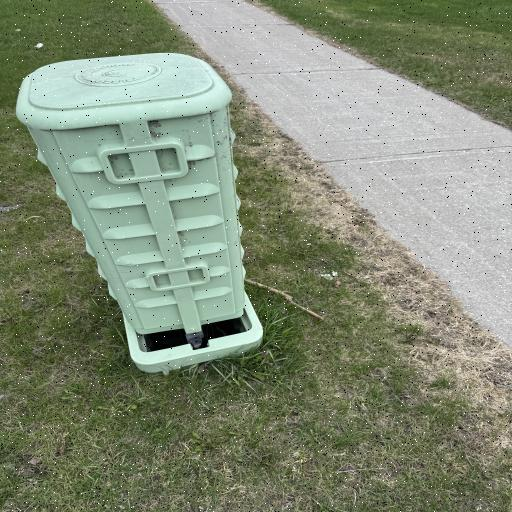Electrical Box: (17, 53, 266, 373)
